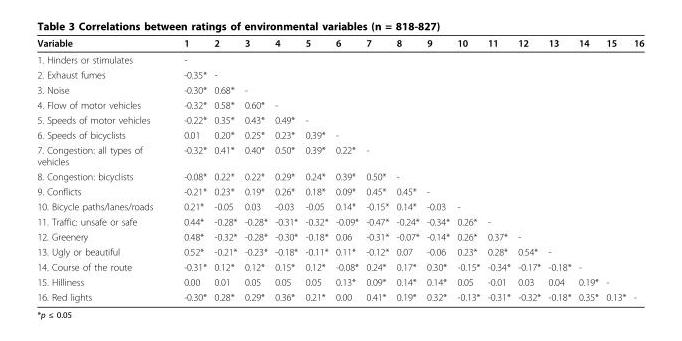table: (36, 36, 643, 302)
table column: (36, 36, 167, 302), (167, 36, 209, 302), (209, 36, 240, 302), (300, 36, 331, 302), (361, 36, 392, 302), (452, 36, 483, 302), (543, 36, 574, 302), (240, 36, 270, 302), (270, 36, 300, 302), (331, 36, 361, 302), (392, 36, 422, 302), (422, 36, 452, 302), (483, 36, 513, 302), (513, 36, 543, 302), (601, 36, 629, 302), (574, 36, 601, 302), (629, 36, 643, 302)
table column header: (36, 36, 643, 51)
table row: (36, 142, 643, 168), (36, 66, 643, 82), (36, 243, 643, 259), (36, 36, 643, 51), (36, 51, 643, 66), (36, 82, 643, 97), (36, 97, 643, 112), (36, 112, 643, 127), (36, 127, 643, 142), (36, 168, 643, 183), (36, 183, 643, 198), (36, 198, 643, 213), (36, 213, 643, 228), (36, 228, 643, 243), (36, 259, 643, 274), (36, 274, 643, 289), (36, 289, 643, 302)
